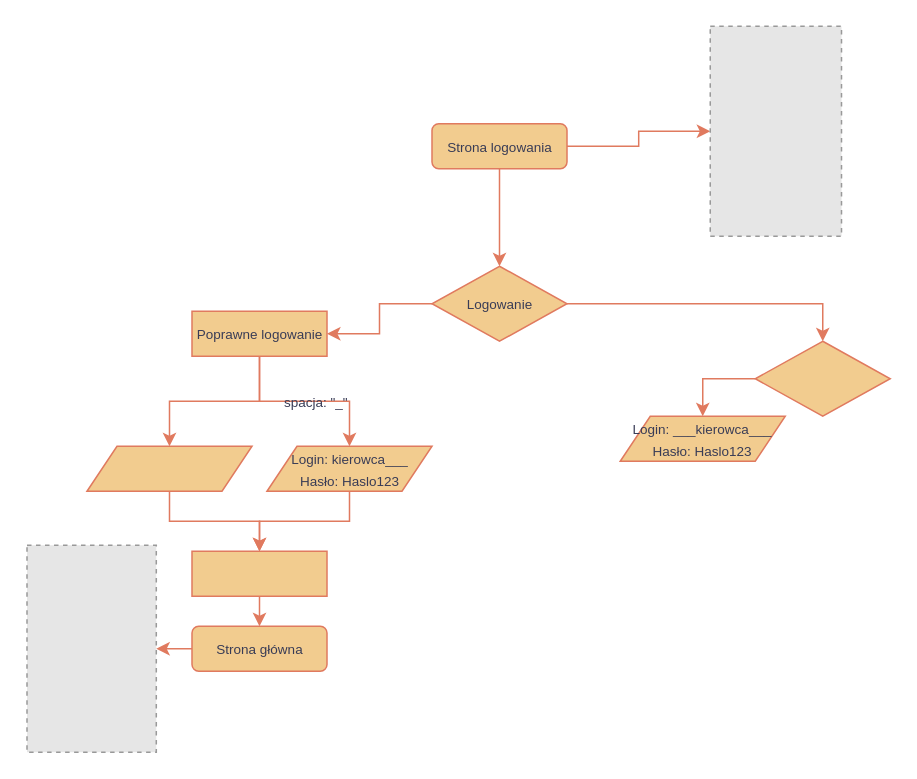
The diagram is 917 pixels wide and 779 high, and some of its shapes have lost their labels. Grey dashed boxes stand in for pictures. Here are the shapes that lost their labels. From the top down, the centre of each, then its label:
the point at 822,378: Niepoprawne logowanie
the point at 169,468: Login: kierowca Hasło: Haslo123
the point at 258,573: Przycisk "Zaloguj"
